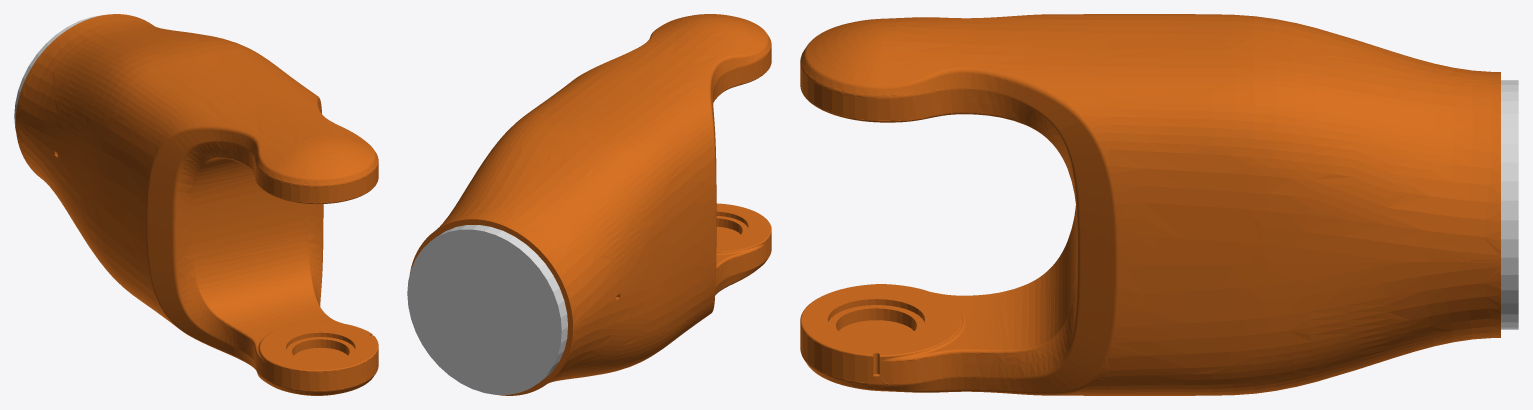
3 renders of one model, left to right at view 1: azimuth 30°, elevation 25°; view 2: azimuth 150°, elevation 25°; view 3: azimuth 270°, elevation 25°, orthographic. The views are drawn at different scales.
Visible parts, largest first — view 1: Link5; view 2: Link5; view 3: Link5.
Part boxes in pixels (box(x1,y1,x2,y2)): Link5: box(14, 14, 378, 395); Link5: box(407, 14, 771, 395); Link5: box(800, 14, 1518, 395).
Size of the model in its own units: 0.088 by 0.117 by 0.2215.
